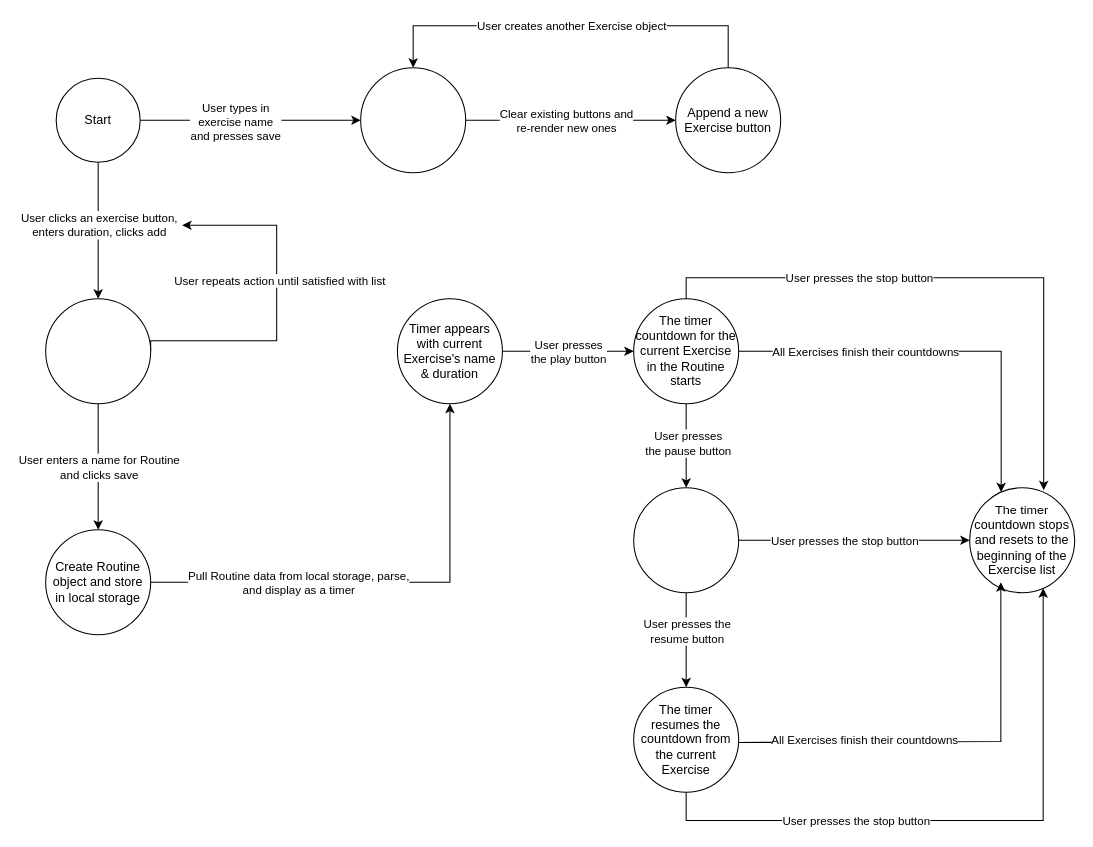
This 1093x847 diagram has some shape labels left out. The centre of each missing label's shape, as x and y in pixels:
"Append Exercise object to temporary exercise list" belongs at point 98,351.
"Create Exercise object and store in local storage" belongs at point 413,120.
"The timer pauses the countdown for the current Exercise" belongs at point 686,540.
